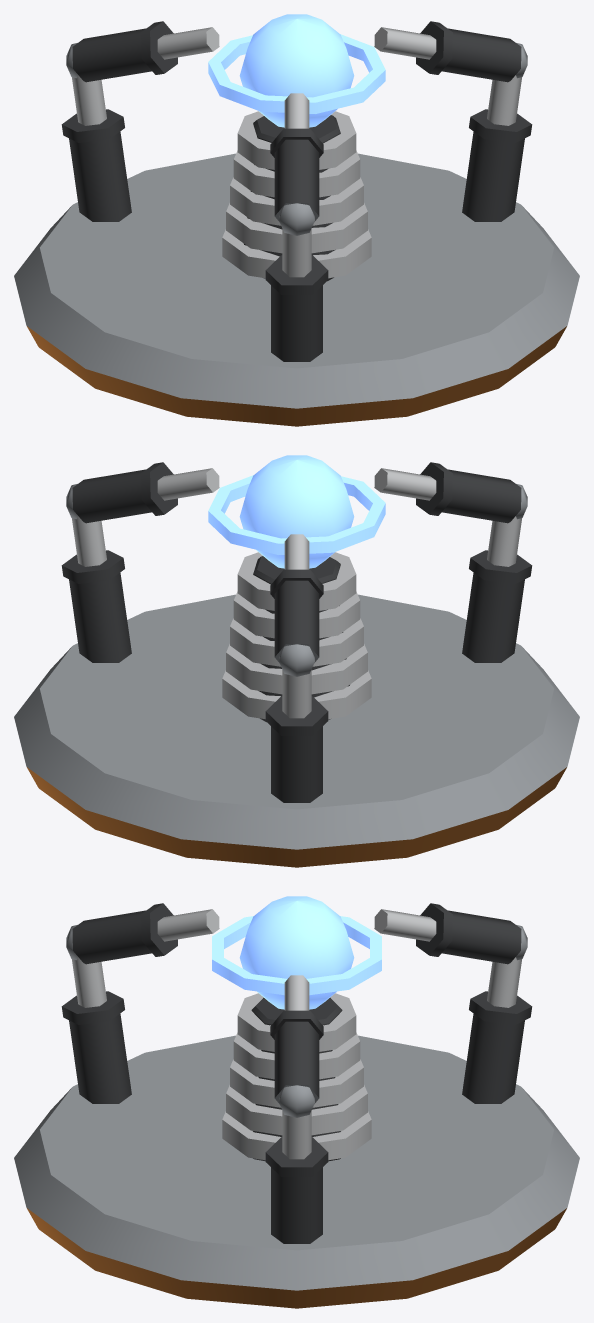
Rendered from R4D_EMPTrap.fbx.
3 renders of one model, top to bottom at view 1: azimuth 30°, elevation 25°; view 2: azimuth 150°, elevation 25°; view 3: azimuth 270°, elevation 25°, orthographic.
Parts seen in each view (by area): view 1: R4D_EMPTrap_Body, R4D_EMPTrap_Core; view 2: R4D_EMPTrap_Body, R4D_EMPTrap_Core; view 3: R4D_EMPTrap_Body, R4D_EMPTrap_Core.
Part boxes in pixels (x1,y1,x2,y2): R4D_EMPTrap_Body: (14, 21, 579, 426); R4D_EMPTrap_Core: (208, 14, 385, 127); R4D_EMPTrap_Body: (14, 462, 579, 867); R4D_EMPTrap_Core: (208, 455, 385, 568); R4D_EMPTrap_Body: (14, 903, 579, 1308); R4D_EMPTrap_Core: (212, 896, 381, 1009).
Bounding box in the file's own units: 0.4352 × 0.25 × 0.4376.
